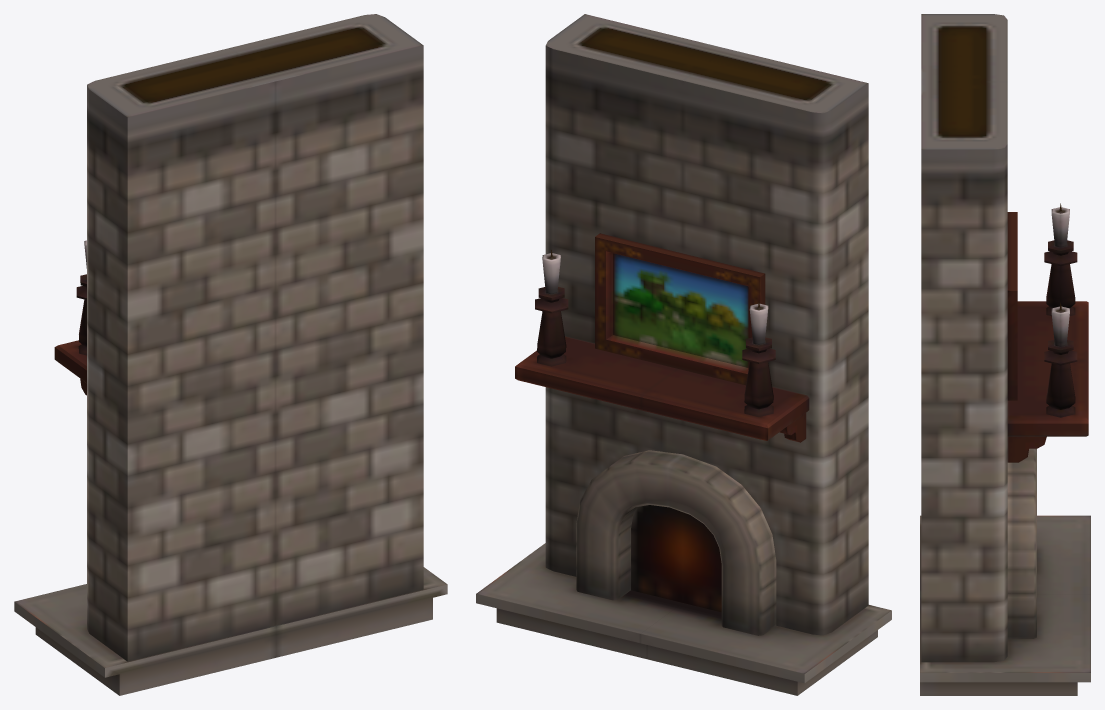
File: FirePlace_01.gltf
The picture shows the model from 3 angles, left to right: view 1: azimuth 30°, elevation 25°; view 2: azimuth 150°, elevation 25°; view 3: azimuth 270°, elevation 25°; orthographic projection. The views are drawn at different scales.
Visible parts, largest first — view 1: FirePlace_01; view 2: FirePlace_01; view 3: FirePlace_01.
Part boxes in pixels (<box>): FirePlace_01: <box>14,14,447,695</box>; FirePlace_01: <box>476,14,891,695</box>; FirePlace_01: <box>920,14,1090,695</box>.
Size of the model in its own units: 57.09 by 91.62 by 26.18.
1 material, 1 textured.
